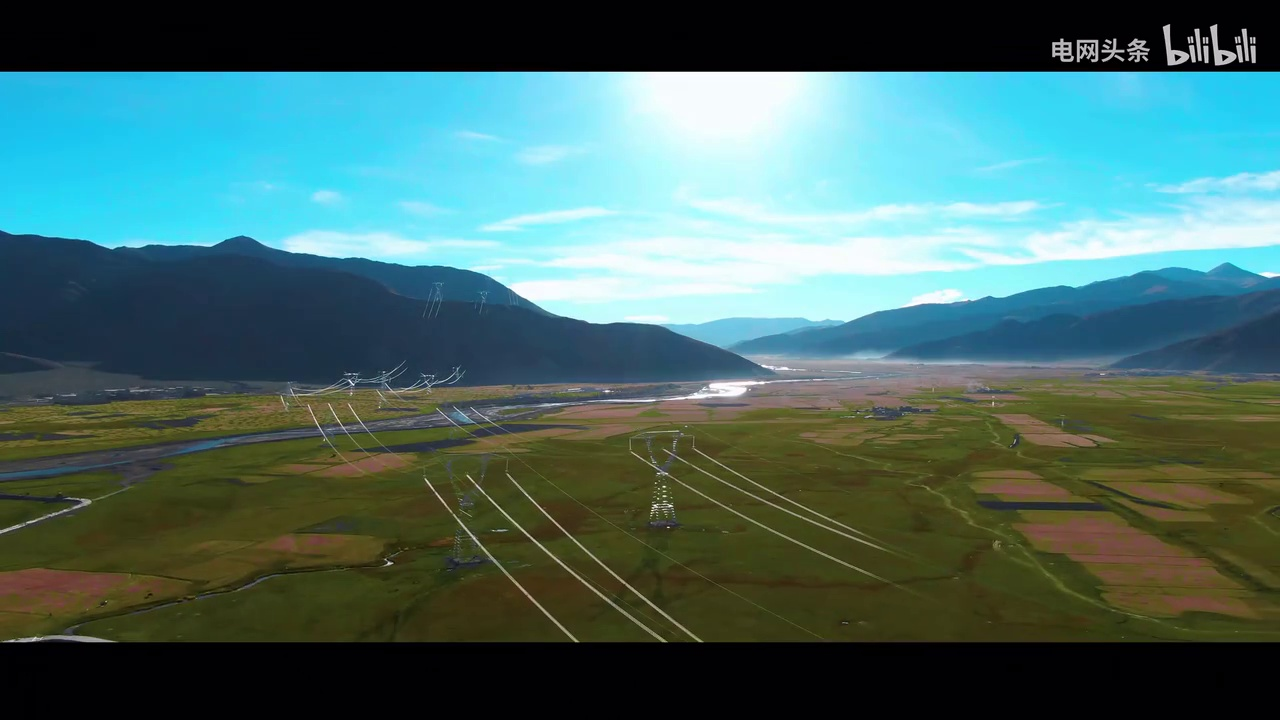tower_body: (623, 416, 709, 540), (432, 447, 514, 569)
tower_foot: (650, 487, 682, 532)
tower_head: (629, 423, 701, 465)
